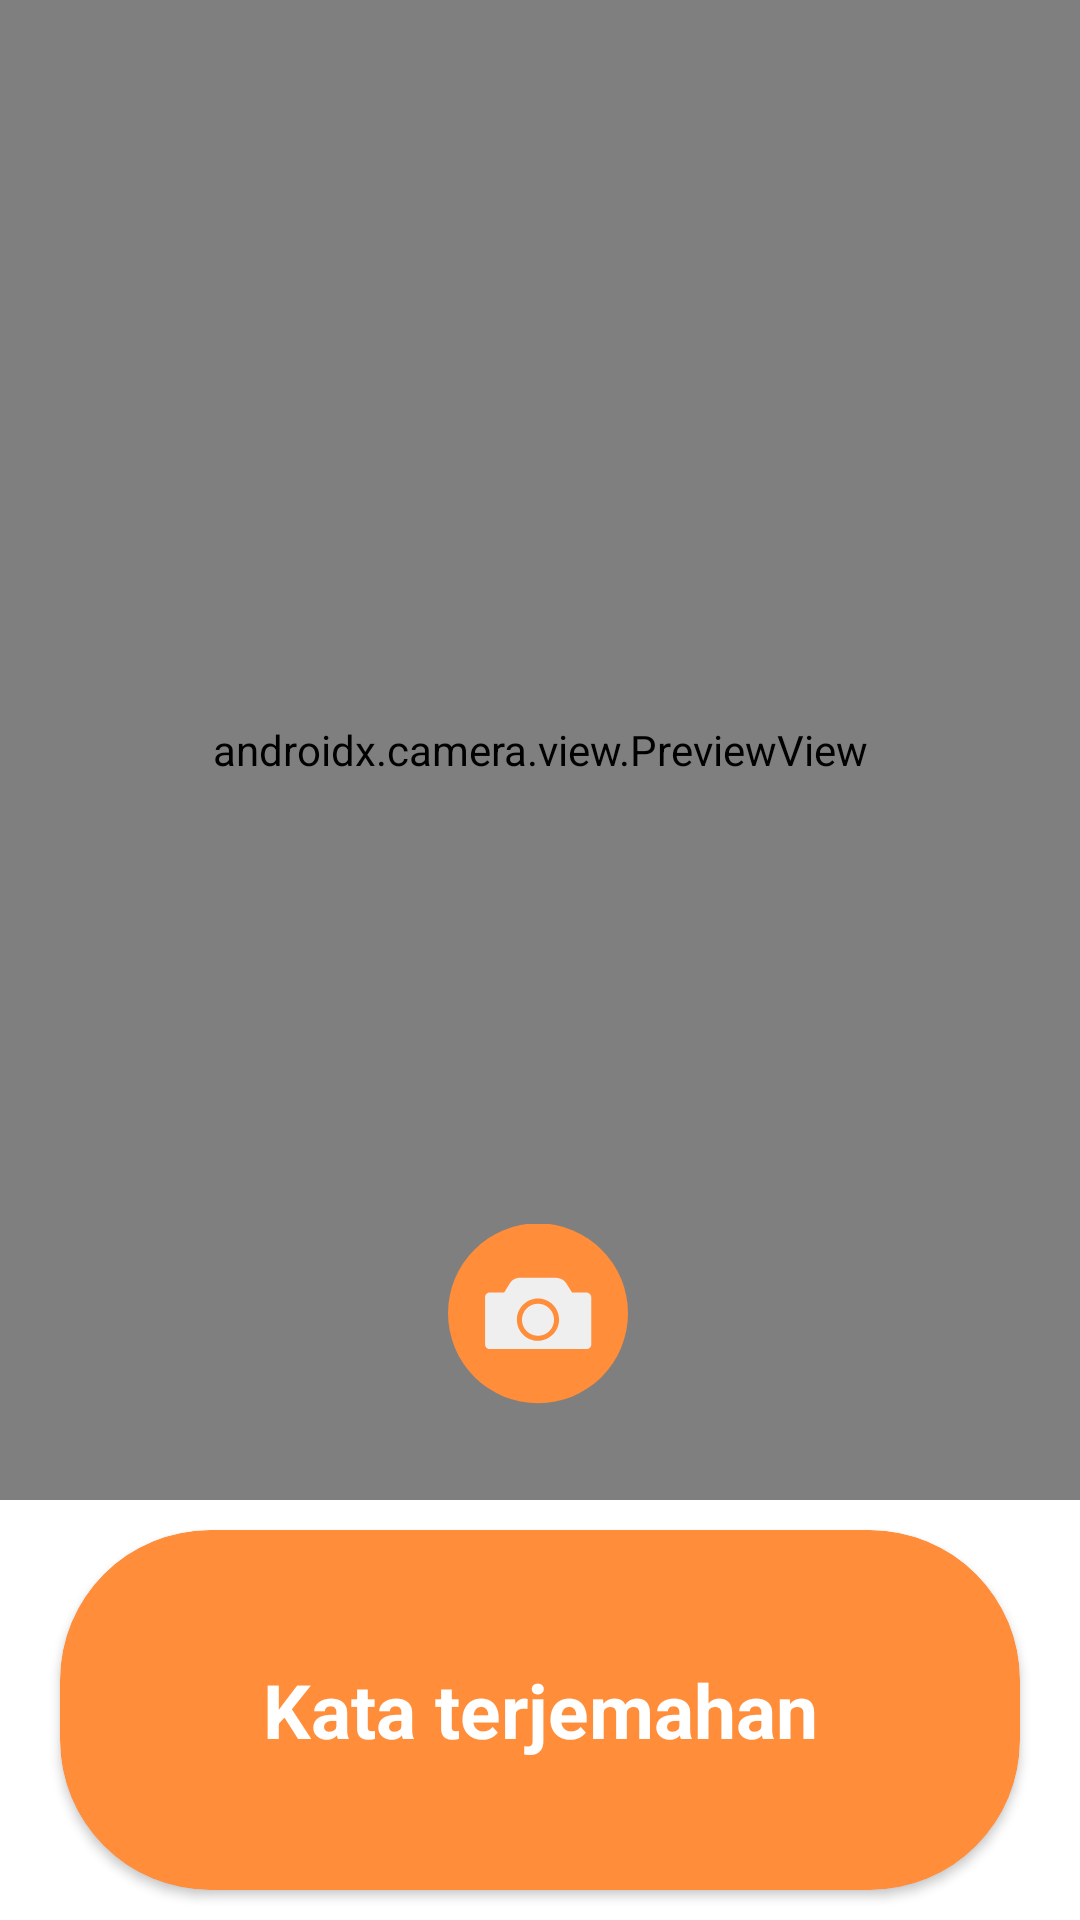

Icon bounding boxes for this 1080px×1920px phone screenshot, format (x1, y1, x2, y2):
capture: (448, 1224, 628, 1404)
